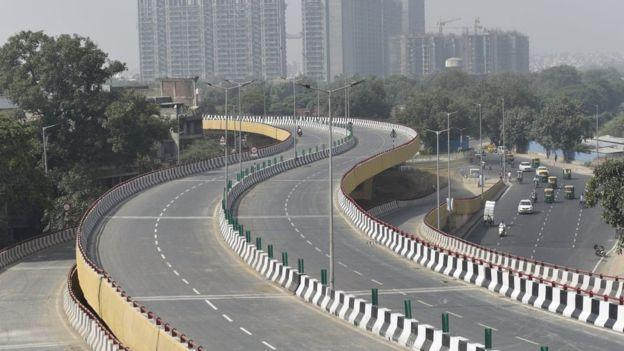car: (512, 195, 540, 217), (555, 183, 578, 204), (537, 189, 562, 205), (542, 168, 564, 186), (517, 162, 537, 178)
